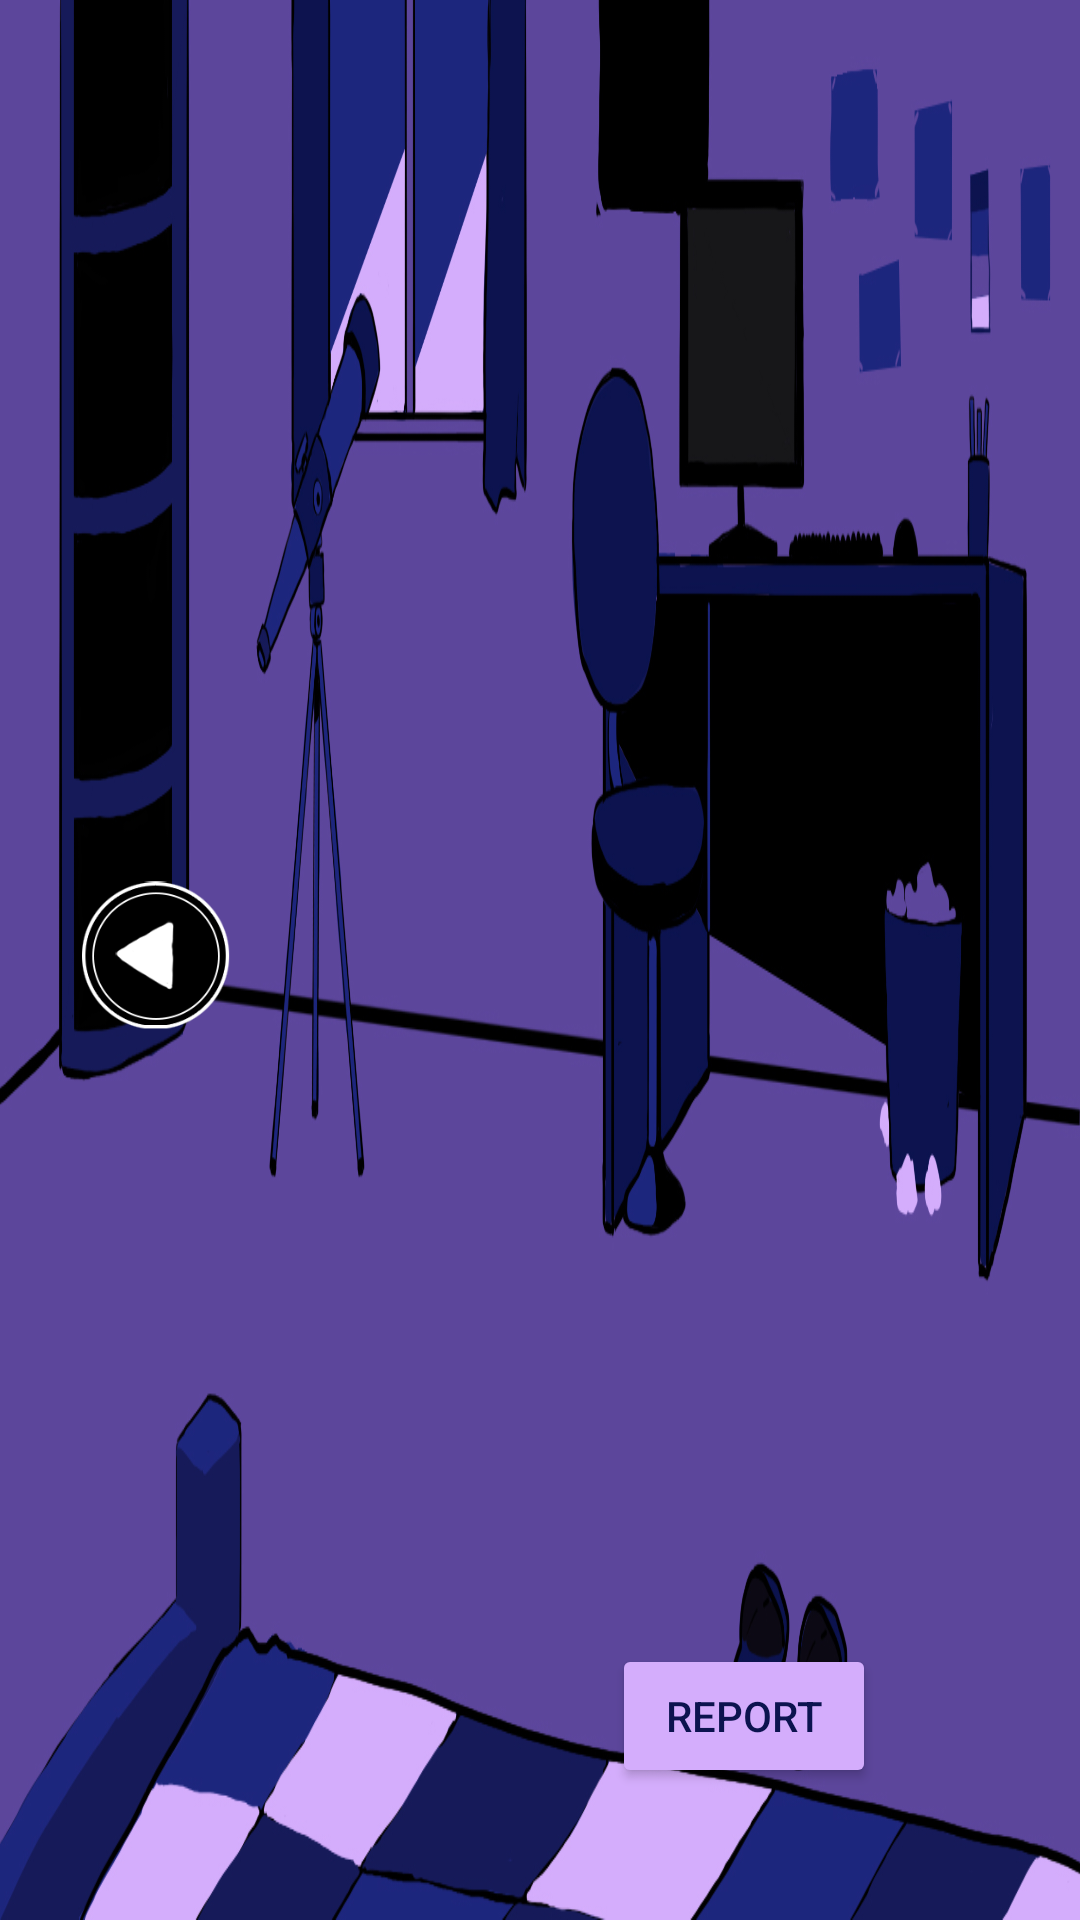

Icon click points for this 1080*1920 phone screenshot, format [x,y]:
left: [153,957]
